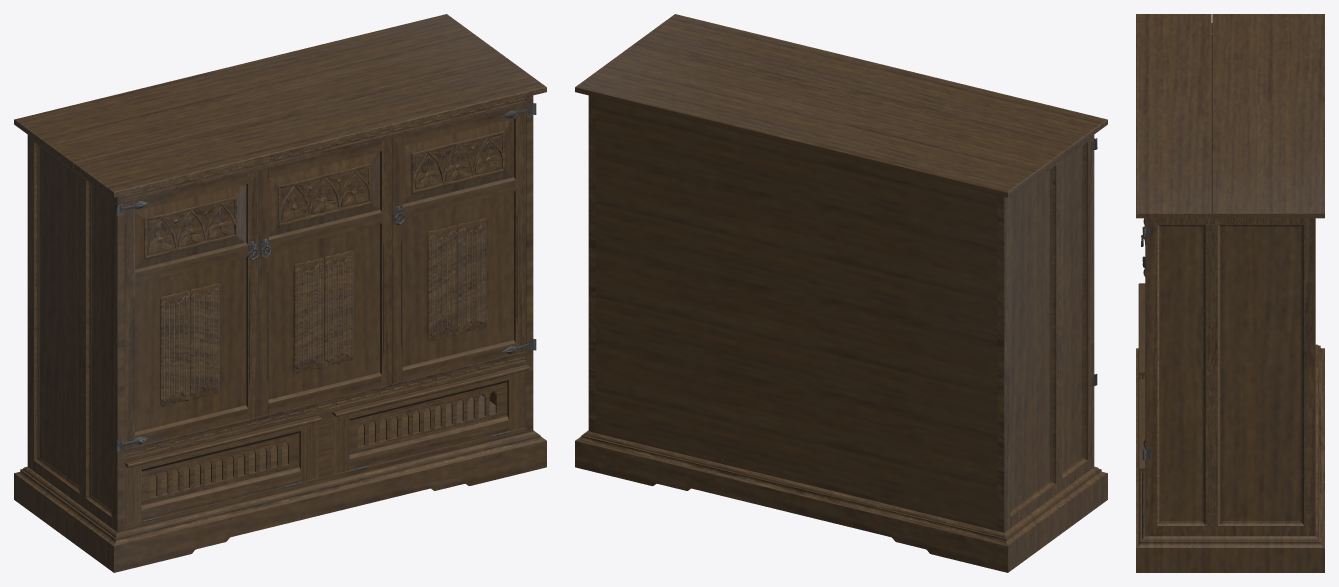
File: raw_model.obj
3 views of the same model, side by side, from view 1: azimuth 30°, elevation 25°; view 2: azimuth 150°, elevation 25°; view 3: azimuth 270°, elevation 25° (orthographic). The views are drawn at different scales.
Visible parts, largest first — view 1: solid_001, solid_002; view 2: solid_001; view 3: solid_001, solid_002.
Part boxes in pixels (x1,y1,x2,y2): solid_001: [14, 14, 546, 572]; solid_002: [114, 103, 536, 522]; solid_001: [575, 14, 1107, 572]; solid_001: [1136, 14, 1324, 572]; solid_002: [1141, 218, 1151, 520].
Size of the model in its own units: 1.25 by 1.05 by 0.5.
Materials: 1 (1 with a texture image).
